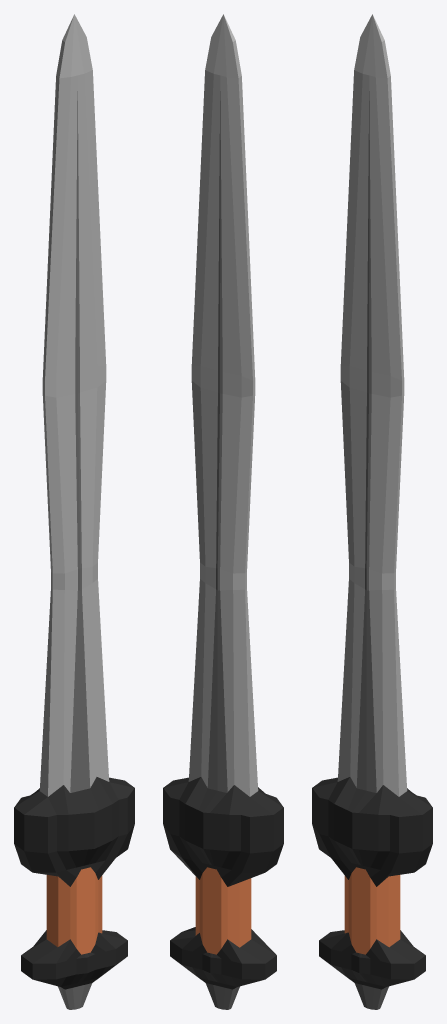
The model's file is LongSword.fbx.
3 views of the same model, side by side, from view 1: azimuth 30°, elevation 25°; view 2: azimuth 150°, elevation 25°; view 3: azimuth 330°, elevation 25° (orthographic).
Visible parts, largest first — view 1: LongSword; view 2: LongSword; view 3: LongSword.
Boxes of the visible parts, x1,y1,x2,y2 form: LongSword: (14, 14, 134, 1009); LongSword: (163, 14, 283, 1009); LongSword: (312, 14, 432, 1009).
Bounding box in the file's own units: 19.97 × 171 × 12.69.
1 material, 1 textured.
